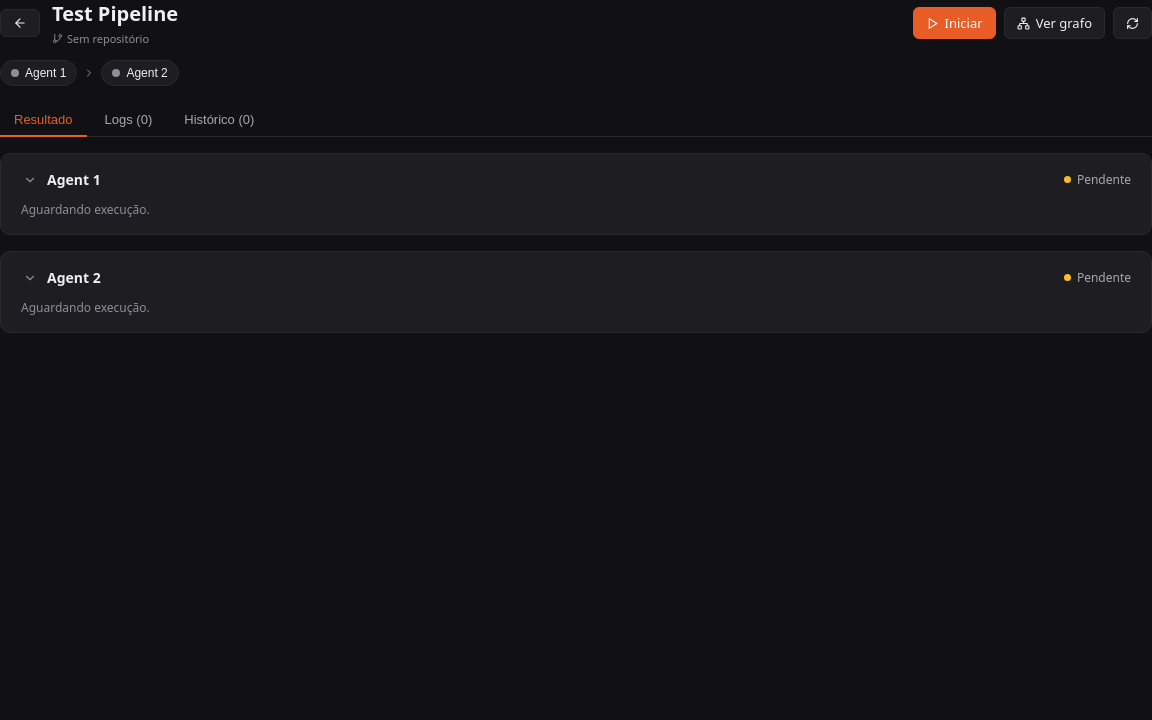
Scenario: PipelineMonitor › shows the run error (not a success toast) when execute returns a failed run
Click the button "Iniciar". click: x=954, y=23
box: [913,7,996,39]
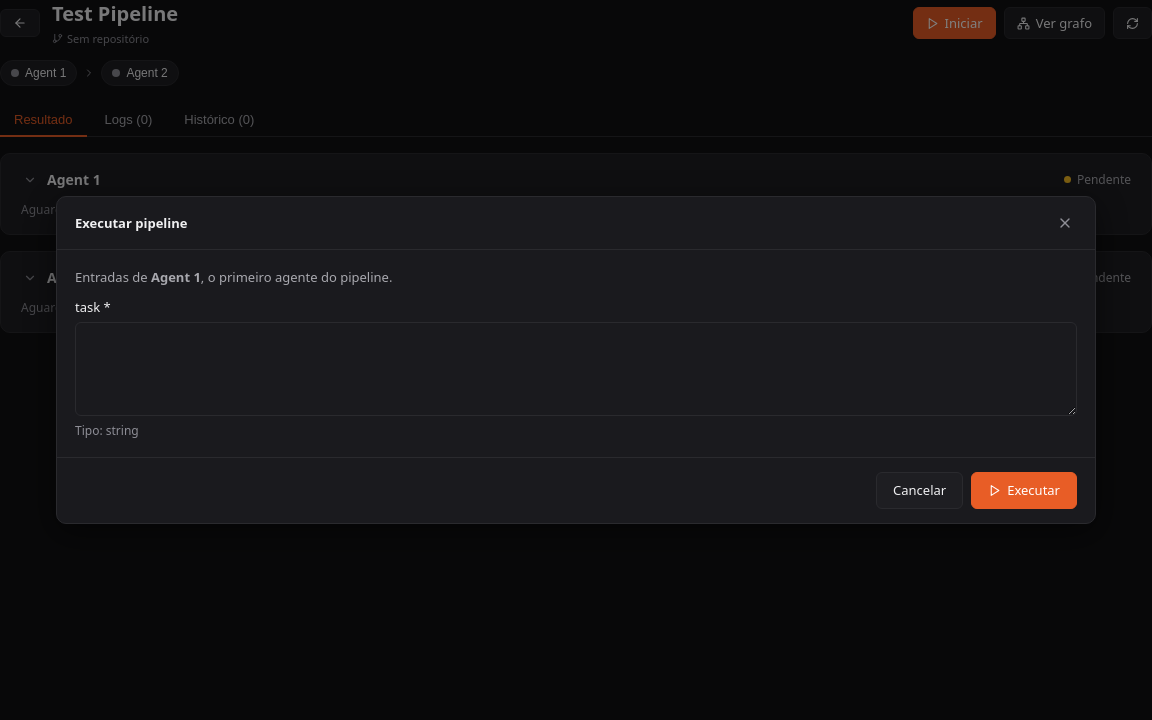
Type "gerar plano" into the text box labelled "task *". click: x=576, y=369
box: [75,322,1077,416]
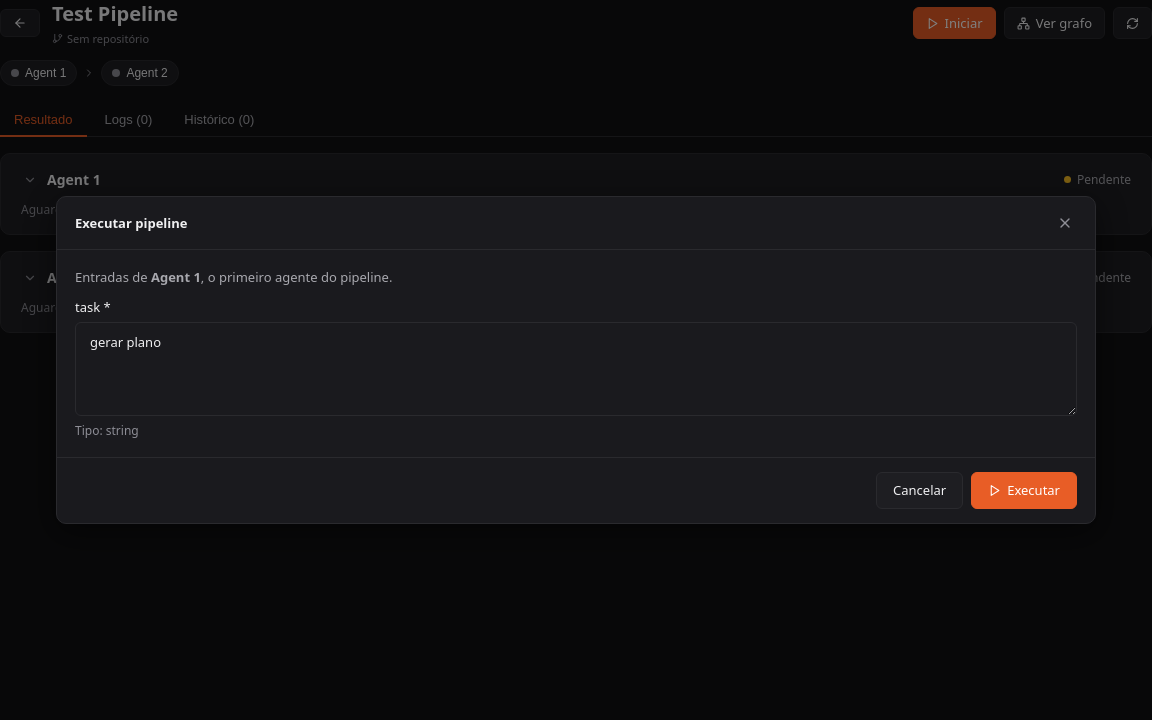
Click the button "Executar". click: x=1024, y=490
box: [971,472,1077,509]
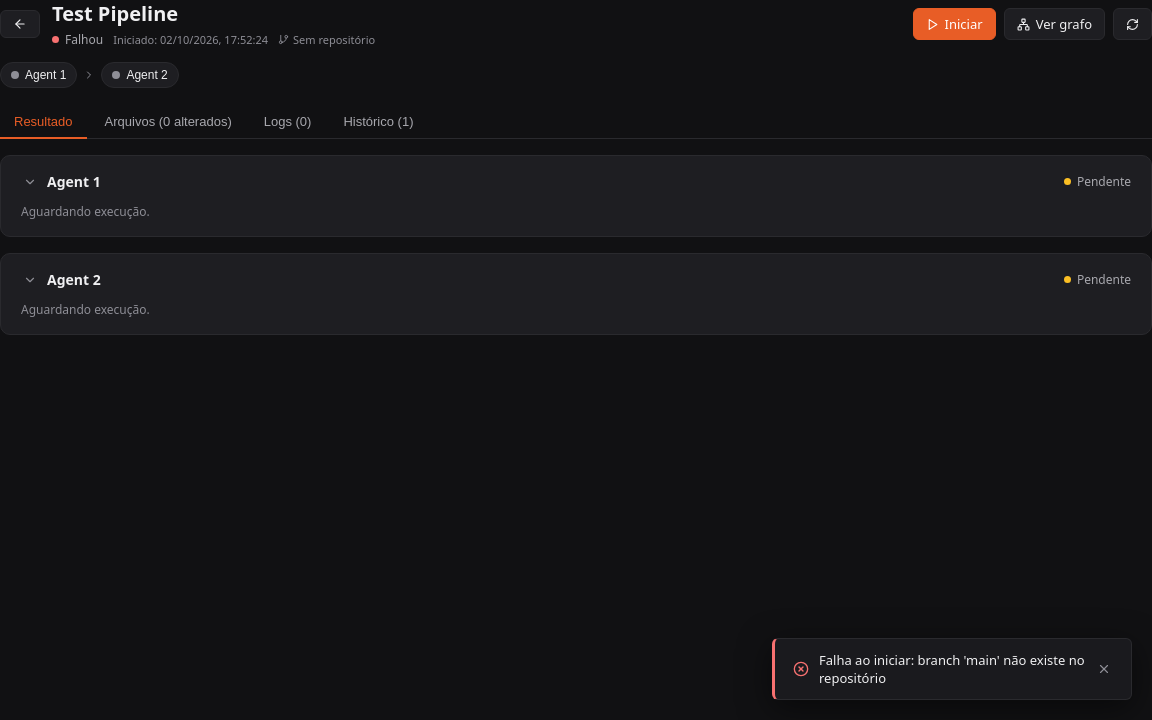
expect the text "Falha ao iniciar: branch 'main' não existe no repositório" is shown: met, box [819,651,1085,687]
